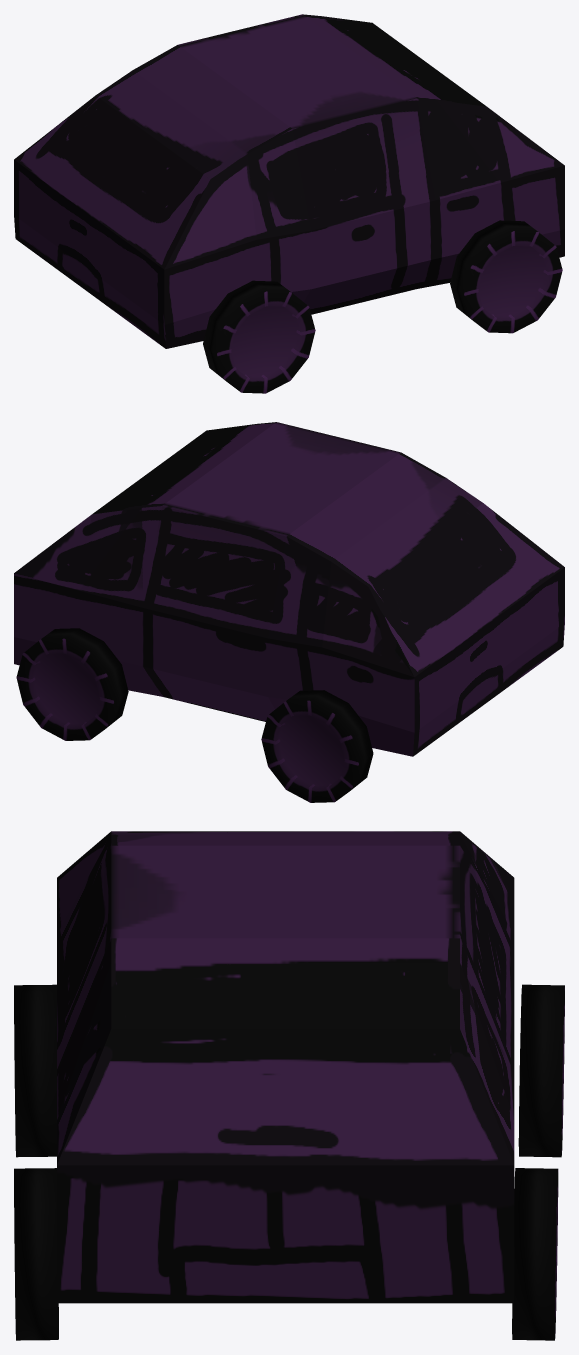
Rendered from Car.fbx.
3 renders of one model, top to bottom at view 1: azimuth 30°, elevation 25°; view 2: azimuth 150°, elevation 25°; view 3: azimuth 270°, elevation 25°, orthographic. The views are drawn at different scales.
Parts seen in each view (by area): view 1: Cube, tires\.001, tires\; view 2: Cube, tires\.002, tires\.003; view 3: Cube, tires\.002, tires\.003, tires\.001, tires\.
Part boxes in pixels (box(x1,y1,x2,y2)): Cube: box(14, 14, 564, 348); tires\.001: box(450, 220, 562, 333); tires\: box(203, 280, 315, 393); Cube: box(14, 422, 564, 756); tires\.002: box(261, 690, 373, 802); tires\.003: box(16, 628, 128, 740); Cube: box(57, 831, 514, 1303); tires\.002: box(518, 984, 564, 1157); tires\.003: box(512, 1168, 558, 1340); tires\.001: box(14, 1168, 58, 1340); tires\: box(14, 984, 56, 1157).
Bounding box in the file's own units: 403 × 219 × 316.
5 materials, 5 textured.
